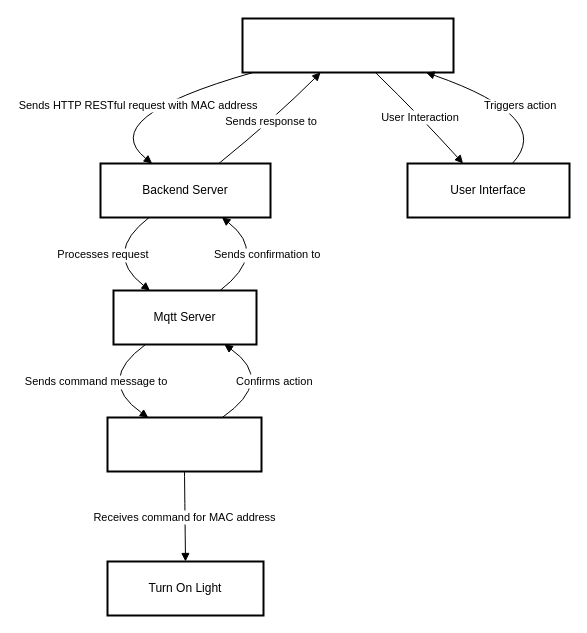
Image size: 587x633. Some labels were removed from this diagram. The box of each missing label's shape, as (x1, y1, x2, y2) in pixels:
ESP32 Device: (106, 416, 262, 472)
Frontend Flutter App: (241, 17, 454, 73)
